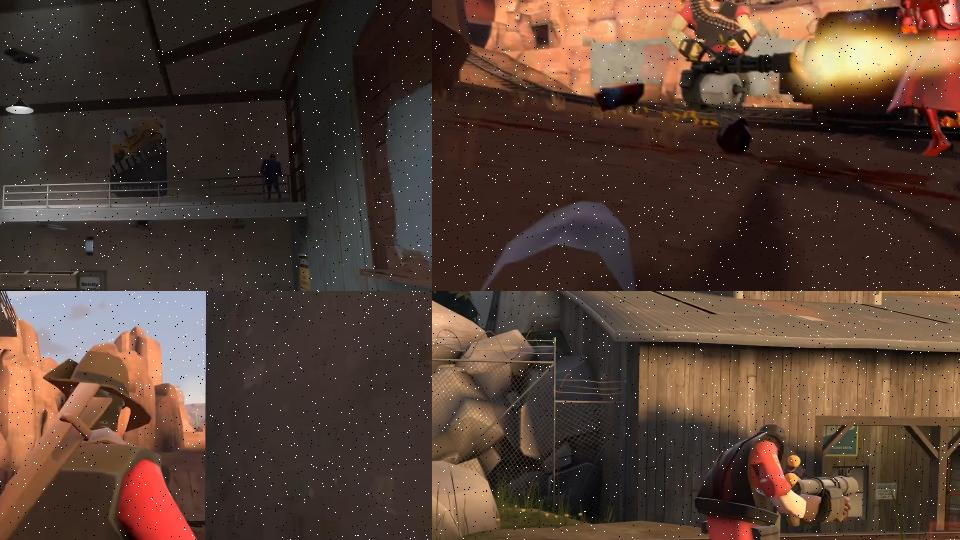Enemy: (0, 339, 243, 540), (693, 422, 859, 540), (665, 0, 797, 112), (883, 0, 960, 156), (260, 153, 284, 203)
